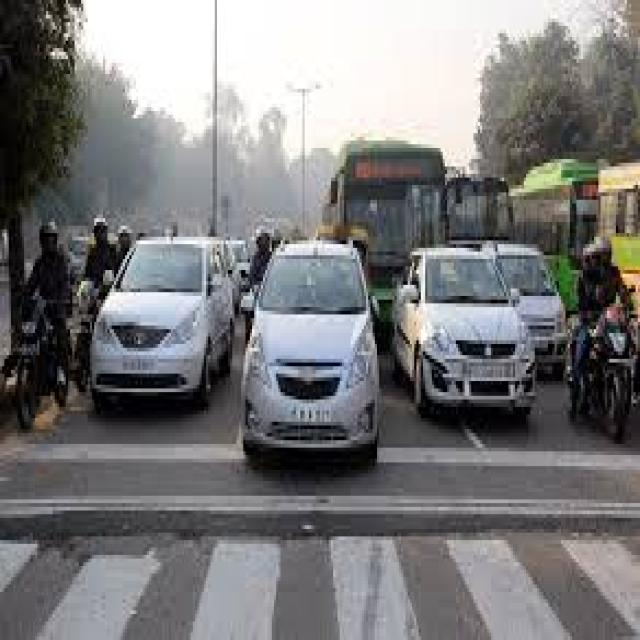car ahead at: (243, 243, 384, 458), (88, 234, 233, 408), (399, 244, 535, 418)
motorcycle ahead at: (565, 236, 640, 436), (8, 220, 78, 432)
